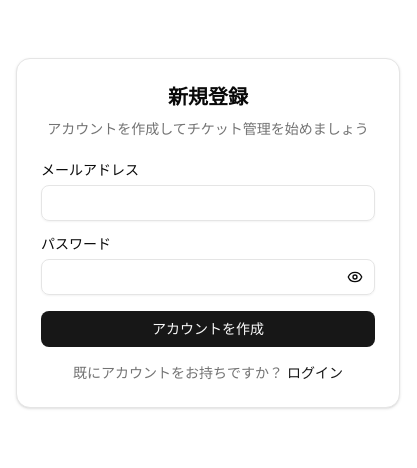
Test: SignupPage › 既存メールアドレスで API エラーを表示する
Expected: the heading "新規登録" is shown, x1=168 y1=86 x2=248 y2=108
Type "demo@example.com" into the field labelled "メールアドレス" at (208, 203), box x1=41 y1=185 x2=375 y2=221
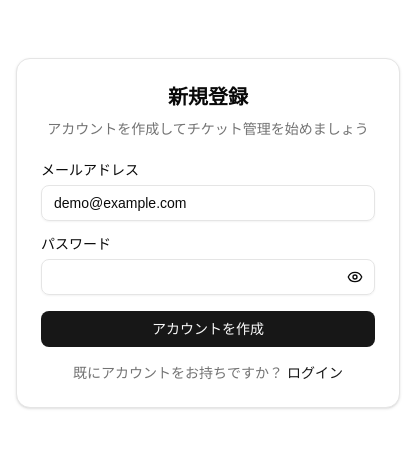
Type "demo1234" into the password field labelled "パスワード" at (208, 277), box x1=41 y1=259 x2=375 y2=295
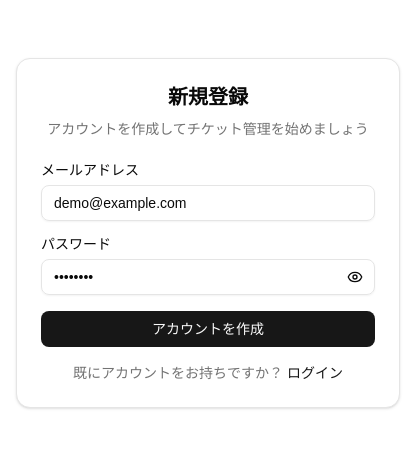
Click the button "アカウントを作成" at (208, 329), box x1=41 y1=311 x2=375 y2=347
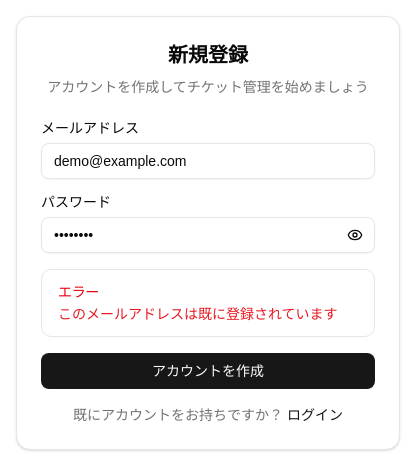
Expected: the text "このメールアドレスは既に登録されています" is shown, x1=58 y1=304 x2=358 y2=324
